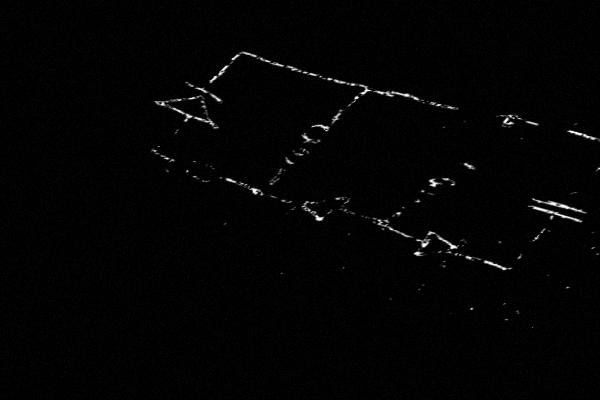capacitor: (512, 183, 600, 230)
diode: (143, 73, 260, 131)
